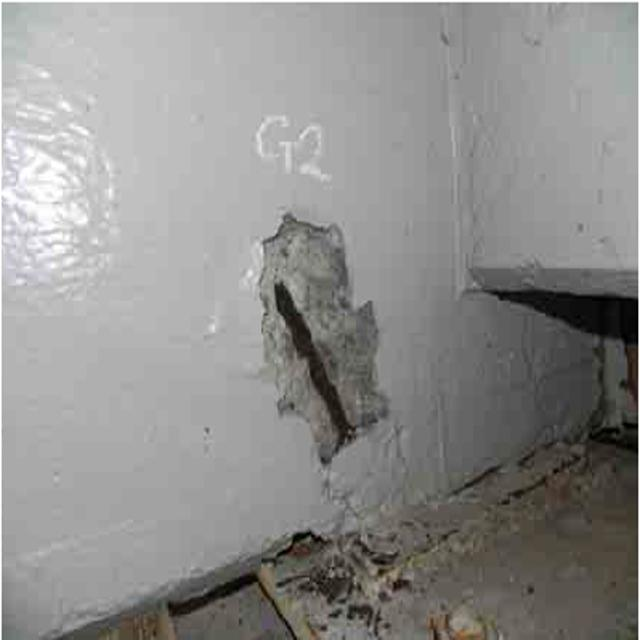spalling: (242, 194, 408, 463)
